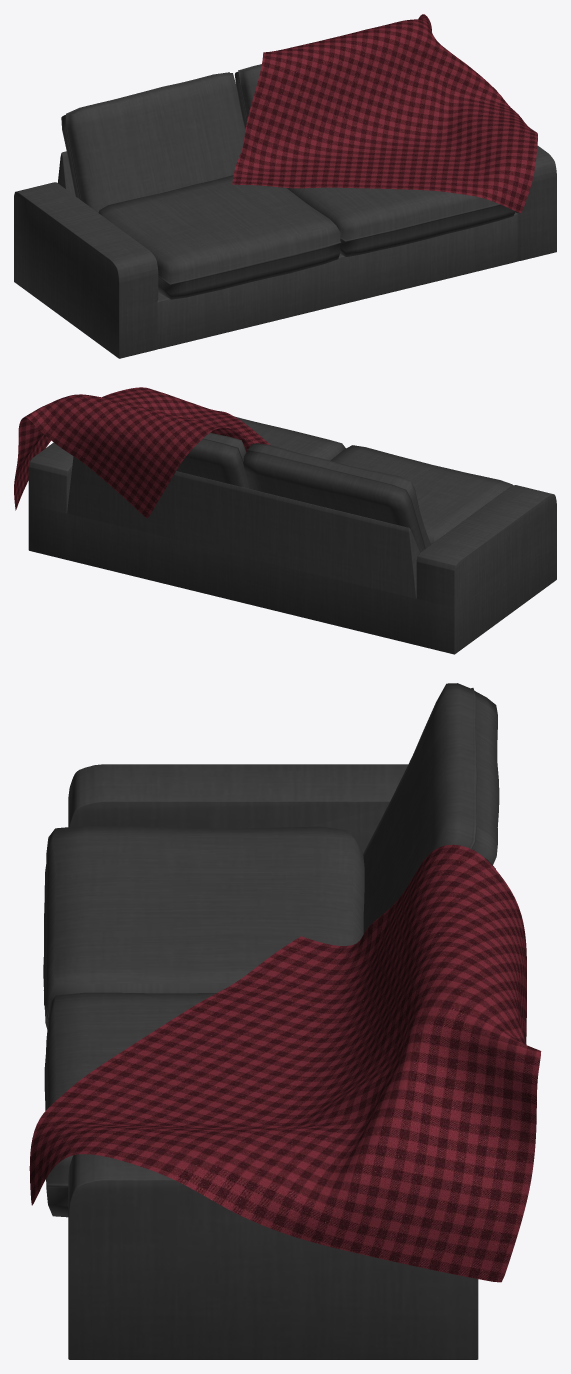
3 renders of one model, top to bottom at view 1: azimuth 30°, elevation 25°; view 2: azimuth 150°, elevation 25°; view 3: azimuth 270°, elevation 25°, orthographic. The views are drawn at different scales.
Visible parts, largest first — view 1: Blanket_LP, Frame_LP, PillowSeat_LP, PillowBack_LP; view 2: Frame_LP, Blanket_LP, PillowBack_LP, PillowSeat_LP; view 3: Blanket_LP, Frame_LP, PillowSeat_LP, PillowBack_LP.
Part boxes in pixels (x1=…): Blanket_LP: x1=232, y1=14, x2=537, y2=212; Frame_LP: x1=14, y1=145, x2=556, y2=358; PillowSeat_LP: x1=98, y1=175, x2=515, y2=299; PillowBack_LP: x1=61, y1=64, x2=261, y2=212; Frame_LP: x1=28, y1=442, x2=556, y2=654; Blanket_LP: x1=14, y1=387, x2=270, y2=518; PillowBack_LP: x1=176, y1=432, x2=430, y2=552; PillowSeat_LP: x1=234, y1=416, x2=512, y2=544; Blanket_LP: x1=29, y1=844, x2=541, y2=1282; Frame_LP: x1=68, y1=764, x2=478, y2=1359; PillowSeat_LP: x1=43, y1=825, x2=364, y2=1217; PillowBack_LP: x1=363, y1=683, x2=499, y2=933.
Size of the model in its own units: 240 by 89.35 by 118.
Materials: 3 (3 with a texture image).
